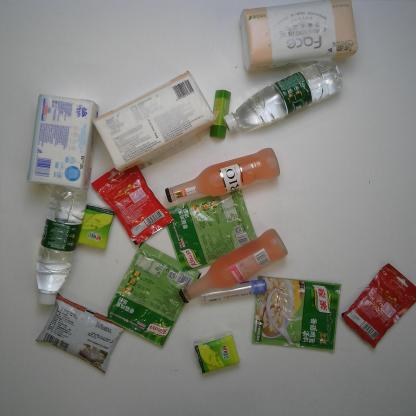Alcohol: (171, 230, 301, 307), (156, 148, 308, 204)
Candy: (339, 259, 416, 356), (89, 163, 174, 245)
Drink: (214, 60, 379, 134), (28, 182, 92, 312)
Seasoner: (103, 238, 211, 347), (159, 192, 270, 270), (38, 288, 129, 376), (253, 274, 343, 358)
Stationery: (195, 278, 281, 315), (208, 88, 239, 144)
Tissue: (89, 70, 224, 174), (231, 0, 378, 71), (24, 92, 100, 190), (187, 332, 249, 377), (73, 203, 125, 254)
